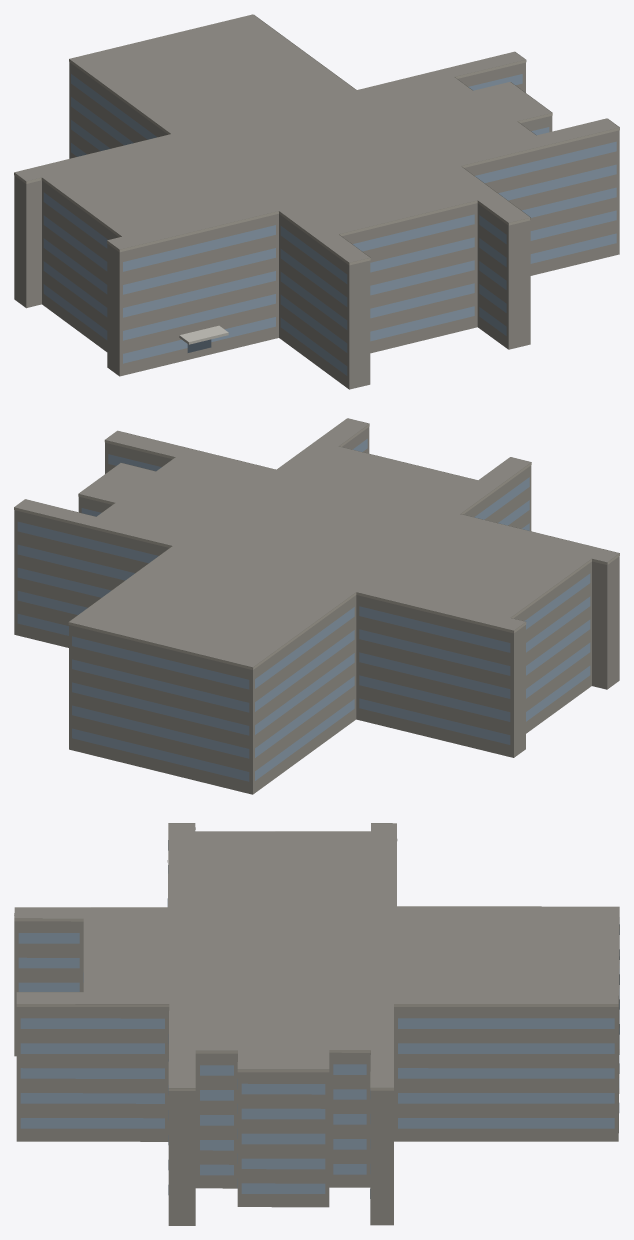
Rendered from arkla-building.glb.
3 views of the same model, one above another, from view 1: azimuth 30°, elevation 25°; view 2: azimuth 150°, elevation 25°; view 3: azimuth 270°, elevation 25° (orthographic). The views are drawn at different scales.
Parts seen in each view (by area): view 1: arkla_building; view 2: arkla_building; view 3: arkla_building.
Part boxes in pixels (box(x1,y1,x2,y2)): arkla_building: box(14, 14, 619, 389); arkla_building: box(14, 418, 619, 794); arkla_building: box(14, 823, 619, 1225).
Size of the model in its own units: 91.33 by 22.12 by 88.2.
